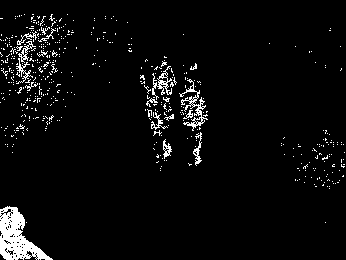person: (177, 79, 211, 167), (141, 83, 177, 166)
